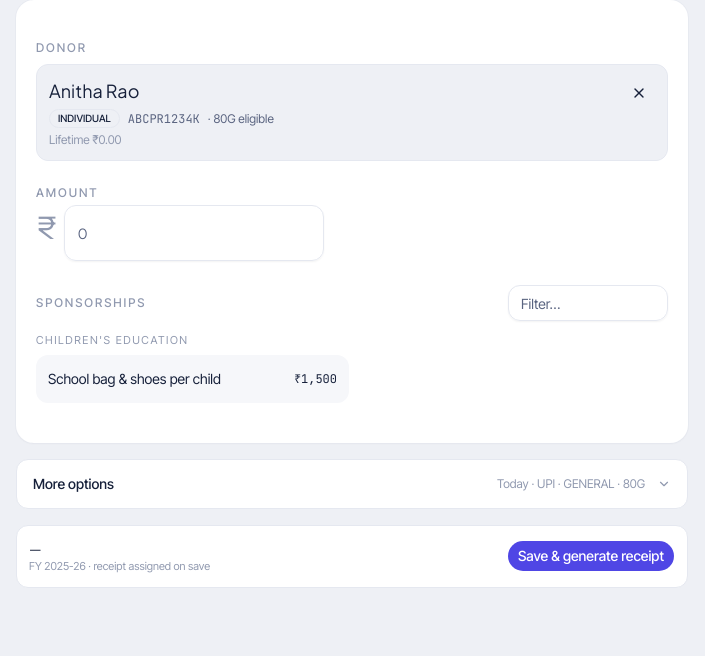
Test: the sponsorship picker on a phone › counts the picked items in the bar that does not scroll away
This screenshot has width=705, height=656.
Click the button "School bag & shoes per child ₹1,500": point(192, 379) [36, 355, 349, 403]
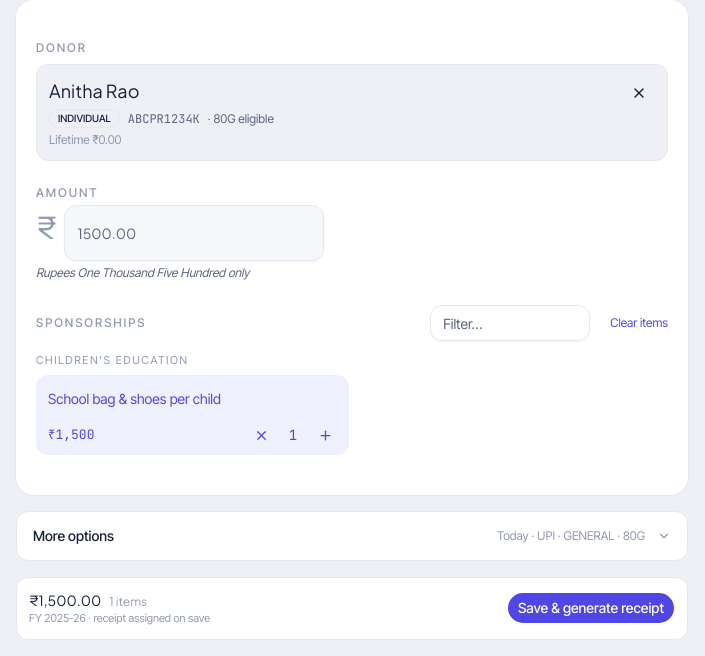
Click the button "School bag & shoes per child": point(192, 399) [36, 375, 349, 423]
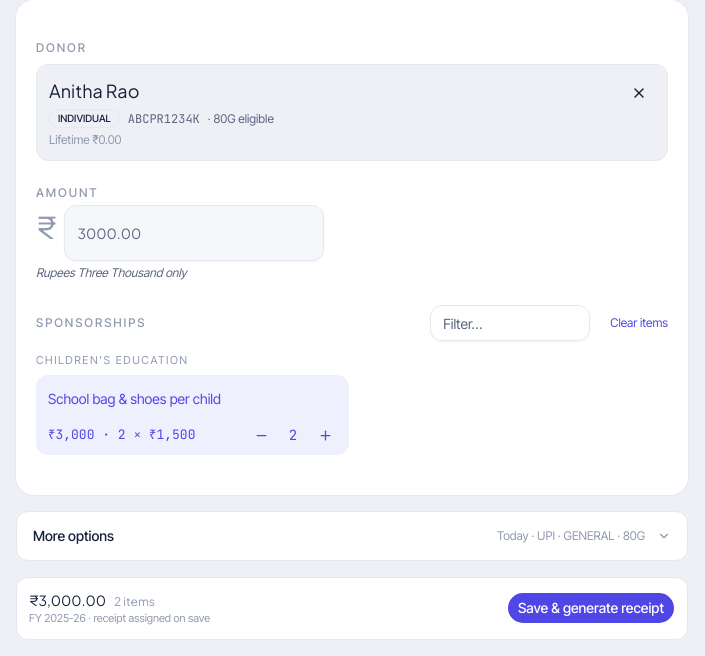
Expected: the button "Save & generate receipt" is shown, [507, 592, 675, 624]
Expected: the element with class "sticky" shows "₹3,000.00", [29, 591, 106, 609]
Expected: the element with class "sticky" shows "2 items", [16, 577, 688, 640]
